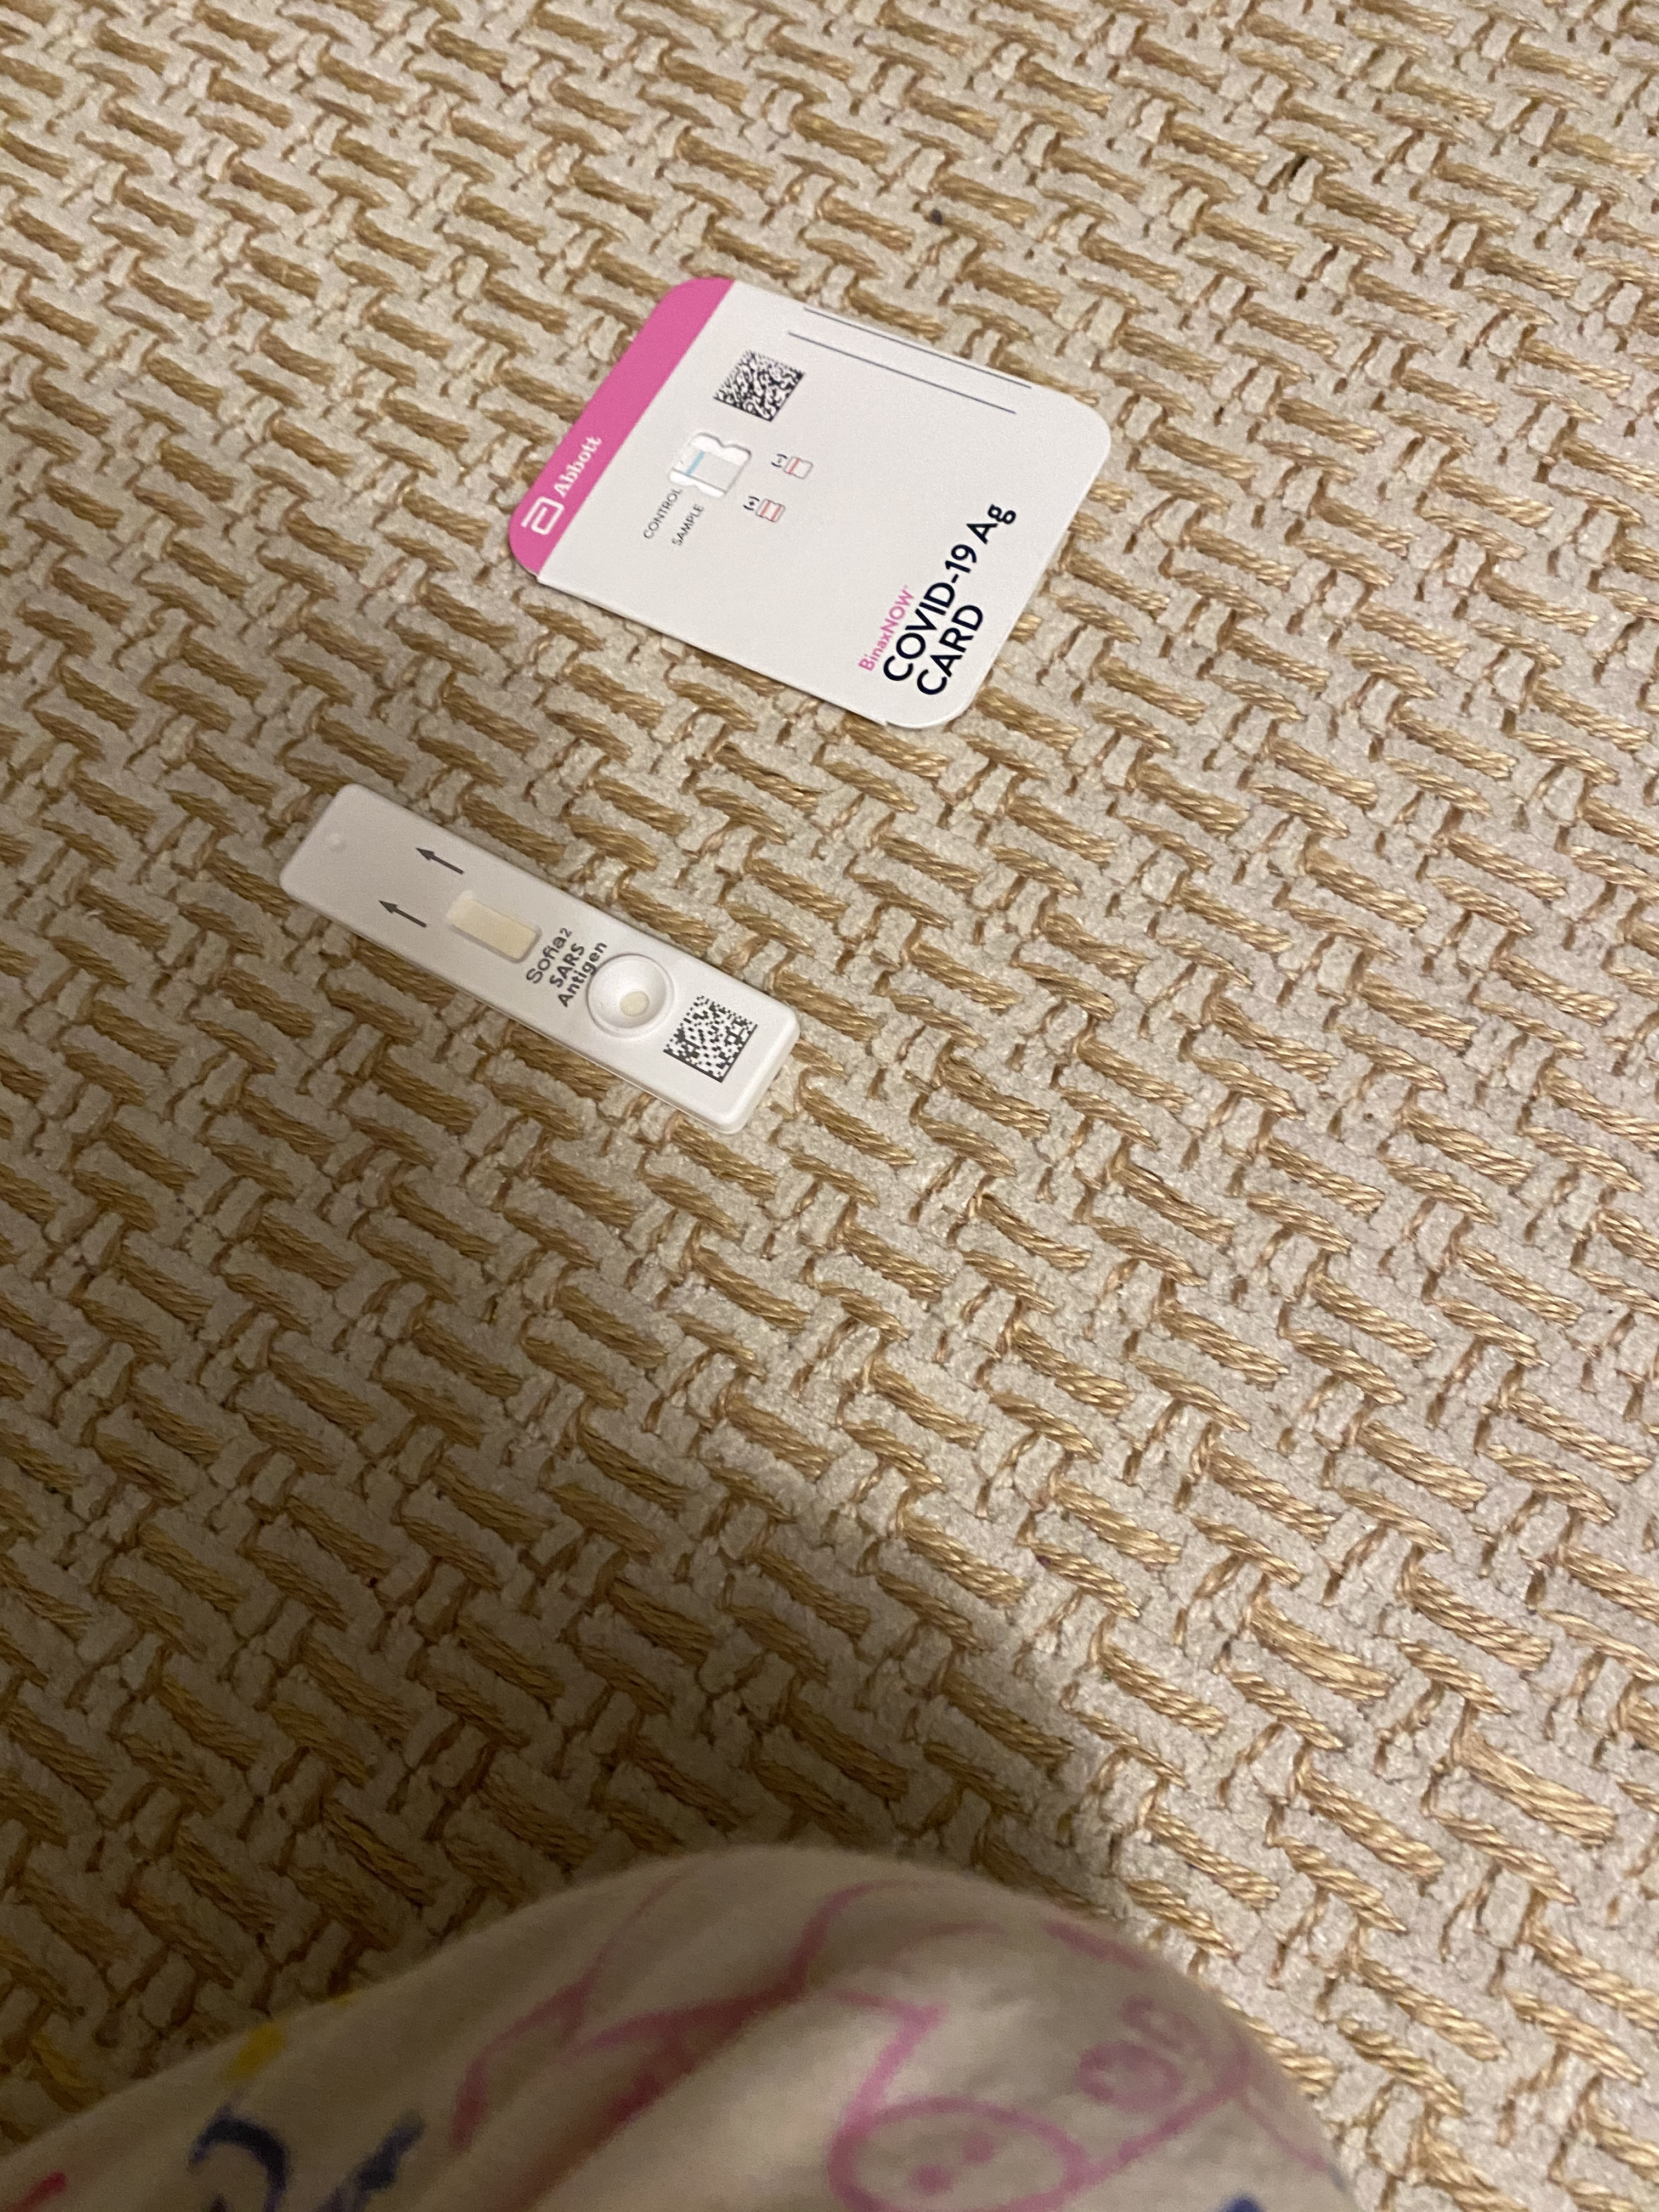binax: (498, 272, 1131, 733)
quidel: (279, 775, 810, 1141)
